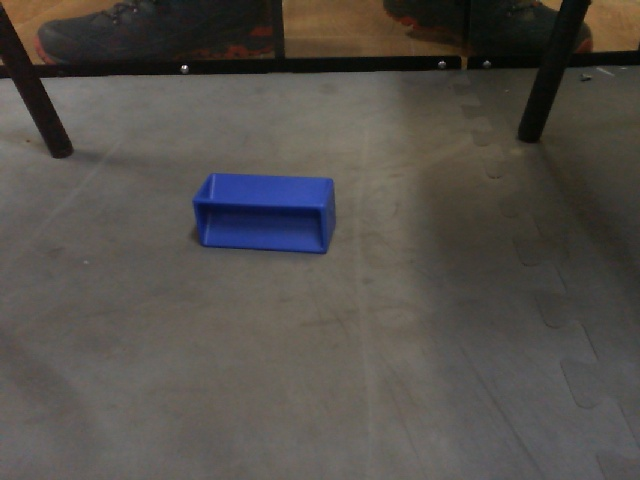BlueSample: (185, 165, 343, 257)
